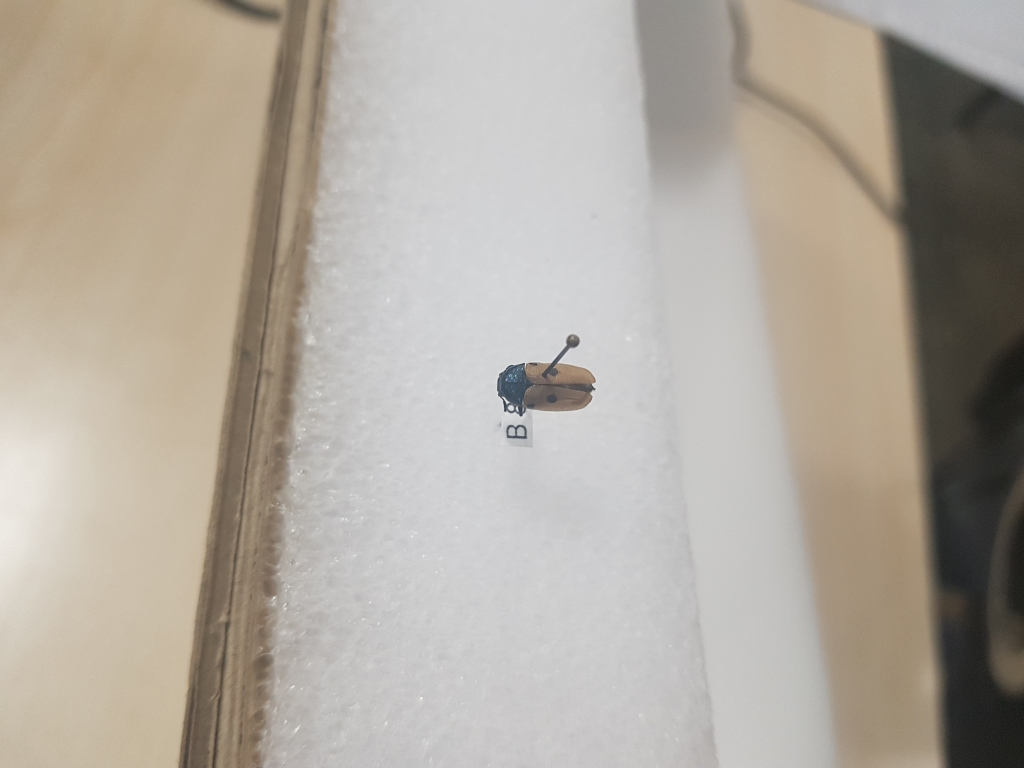Labidostomis_maculipennis: (487, 355, 600, 418)
